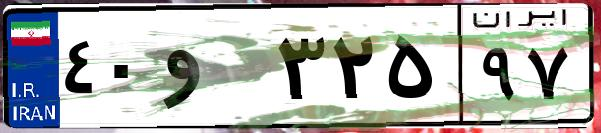0: (110, 28, 158, 98)
2: (330, 28, 385, 110)
3: (270, 28, 330, 110)
4: (57, 26, 110, 100)
5: (385, 28, 445, 110)
7: (525, 38, 570, 115)
9: (475, 38, 525, 113)
و: (158, 20, 270, 120)
